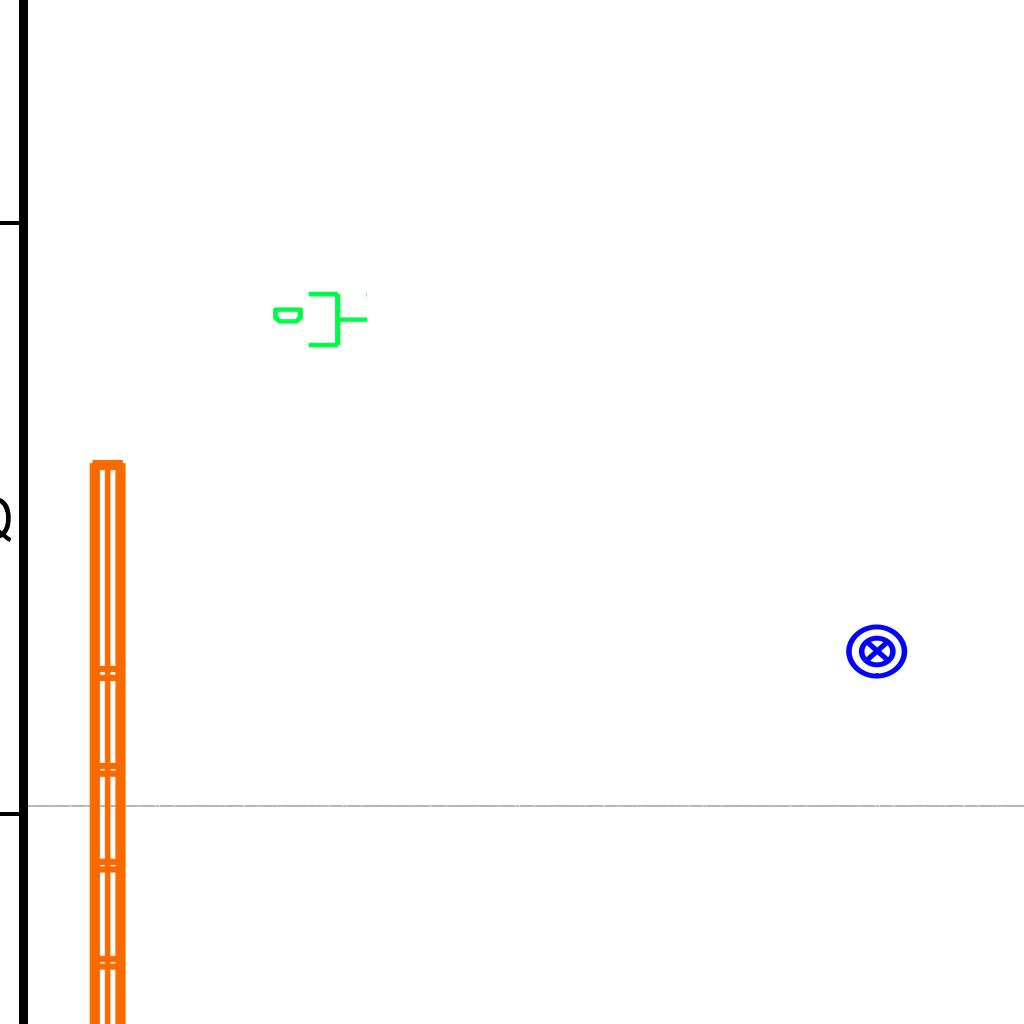Ambulanz_Pendelleuchte_LED: (77, 449, 189, 1024)
Datenanschluss_einfach: (270, 287, 370, 356)
Taster_beleuchtet: (844, 618, 910, 684)
